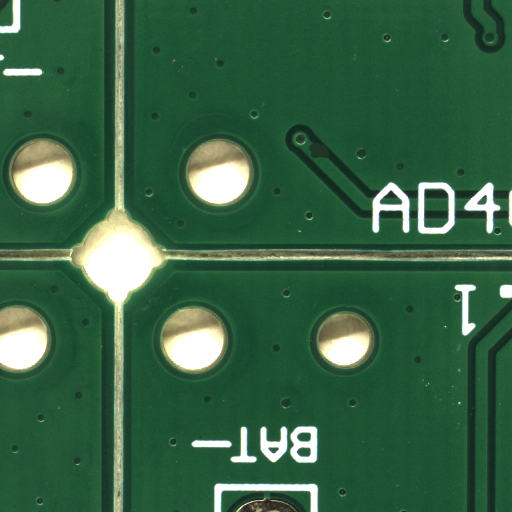Mouse_bite: (320, 151, 341, 166)
